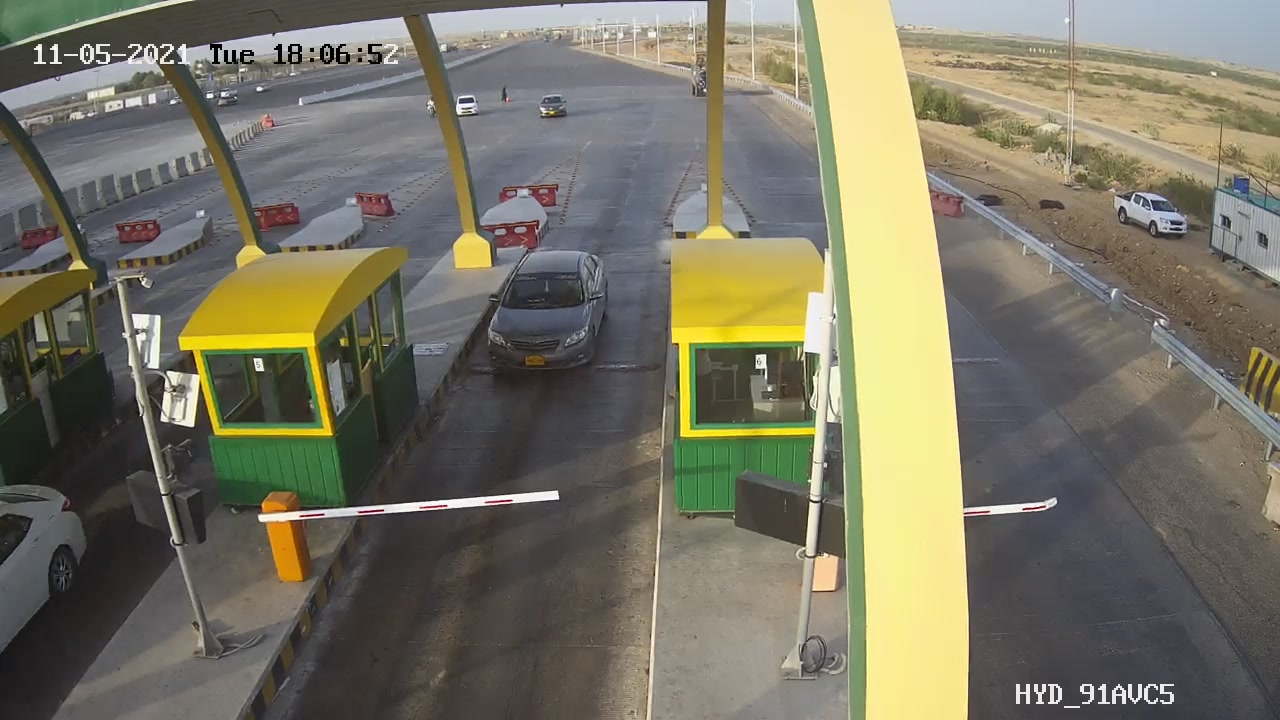F1: (477, 229, 627, 387)
